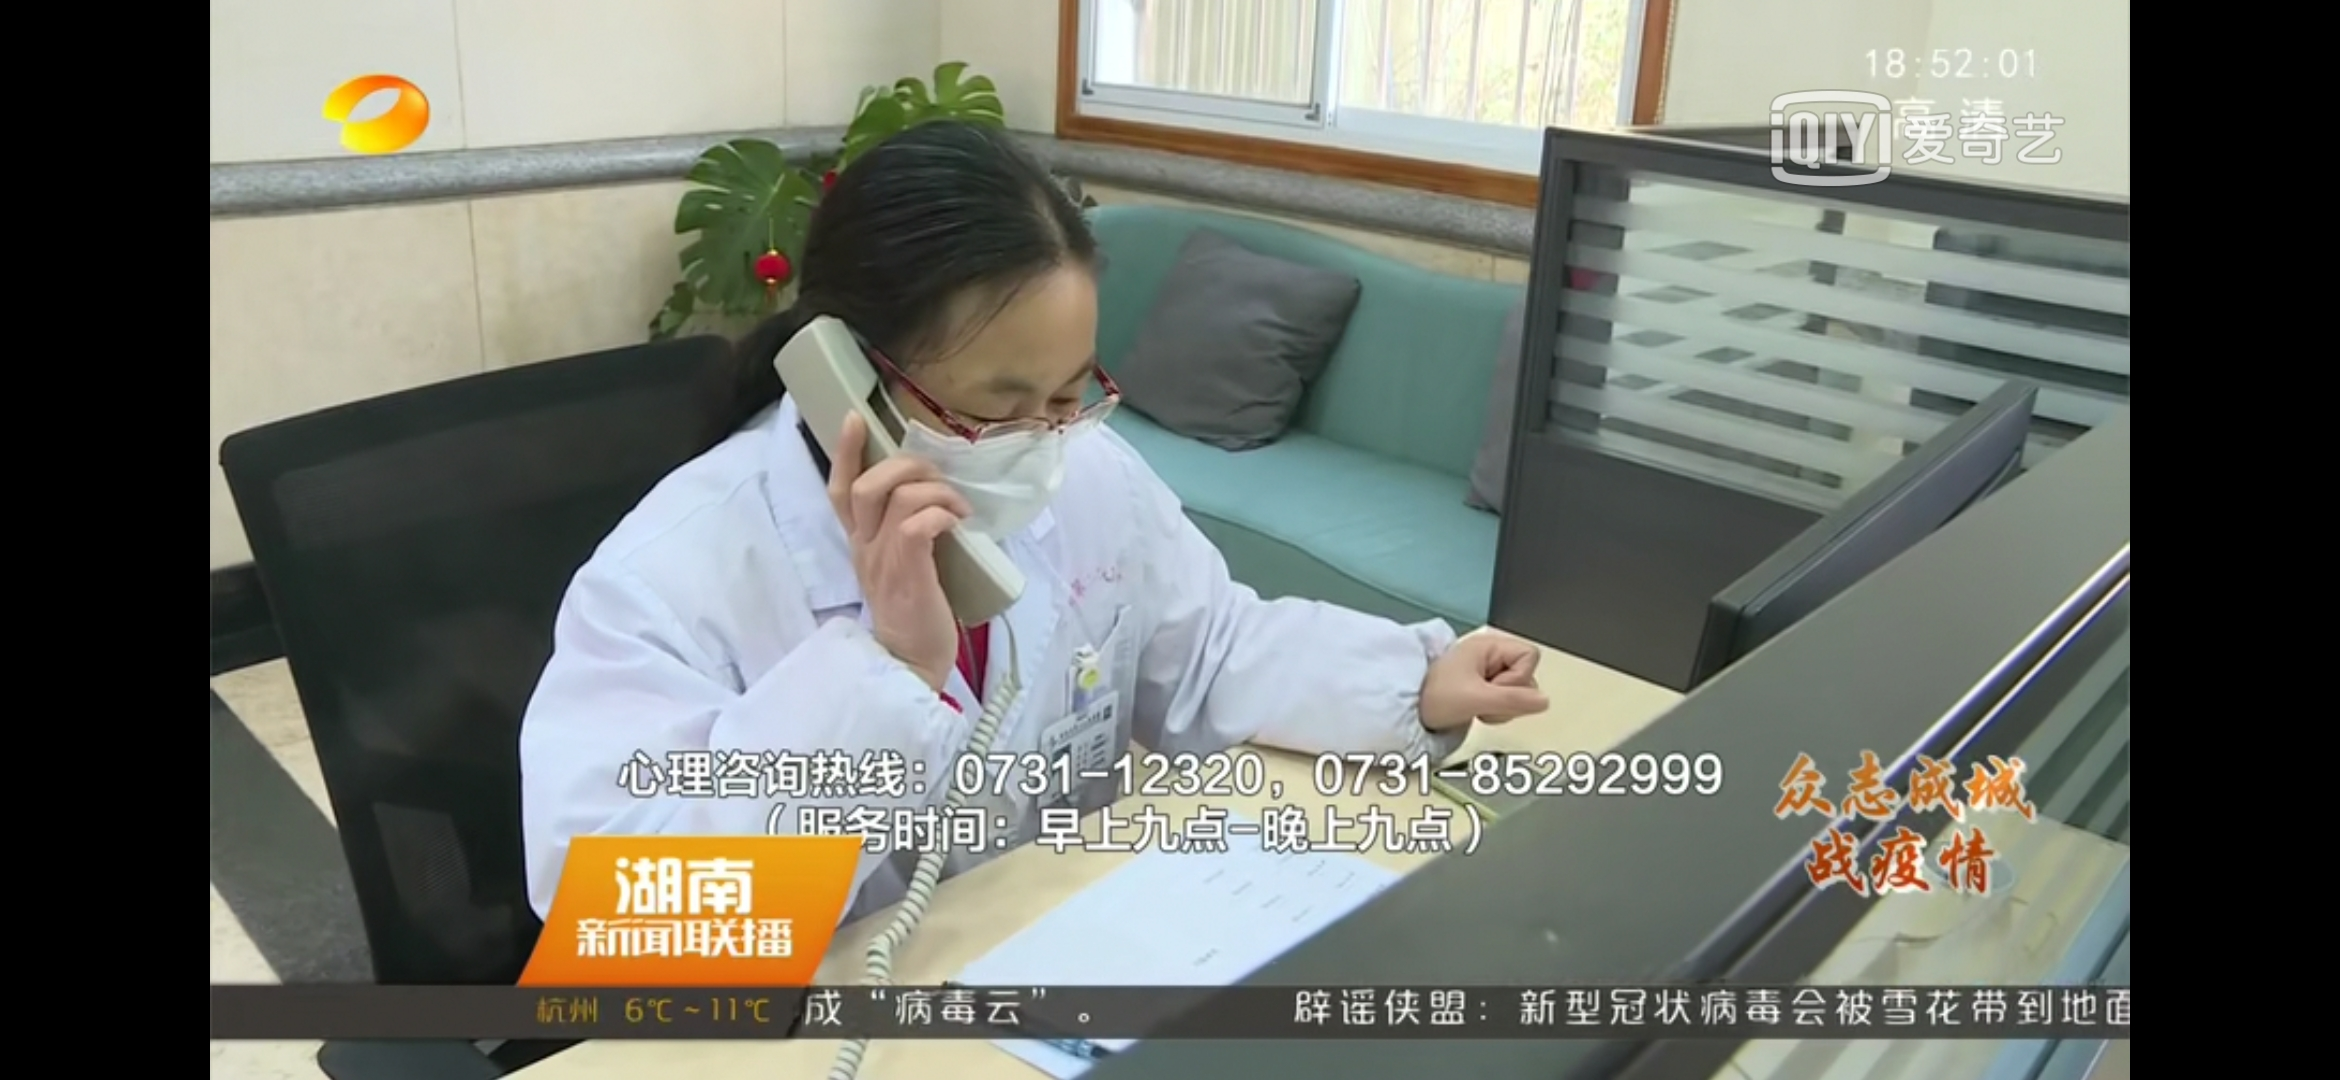correctlyWear: (770, 318, 1119, 595)
